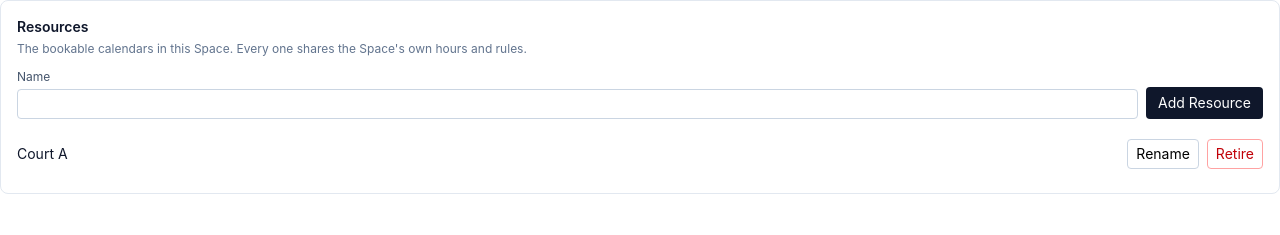
Test: ResourcesPanel › shows a forbidden rename as an error on the row
Expected: the list item with test id "resource-1" is shown, x1=17 y1=131 x2=1263 y2=177
Click the button with test id "resource-1-rename-start" at (1163, 154), box x1=1127 y1=139 x2=1199 y2=169
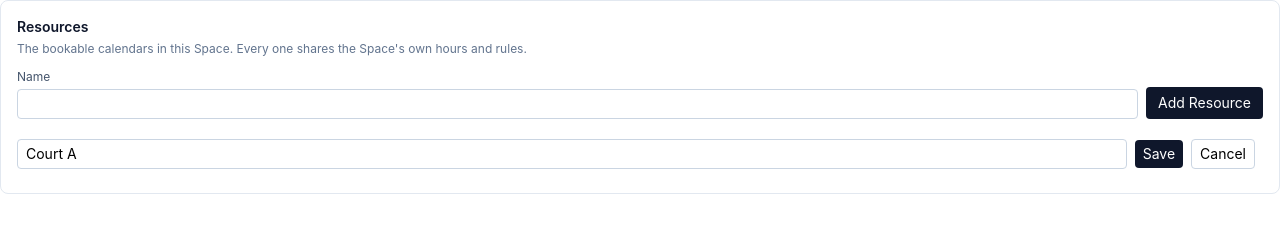
Replace the text in the field with test id "resource-1-rename-input" with "Court Z" at (572, 154), box x1=17 y1=139 x2=1127 y2=169
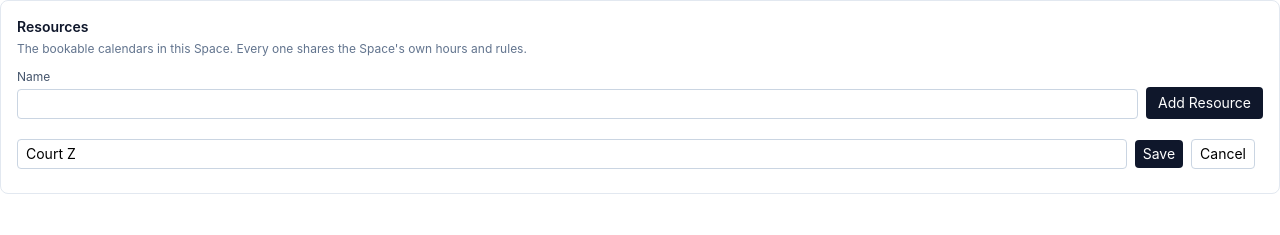
Click the button with test id "resource-1-rename-save" at (1159, 154), box x1=1135 y1=140 x2=1183 y2=168
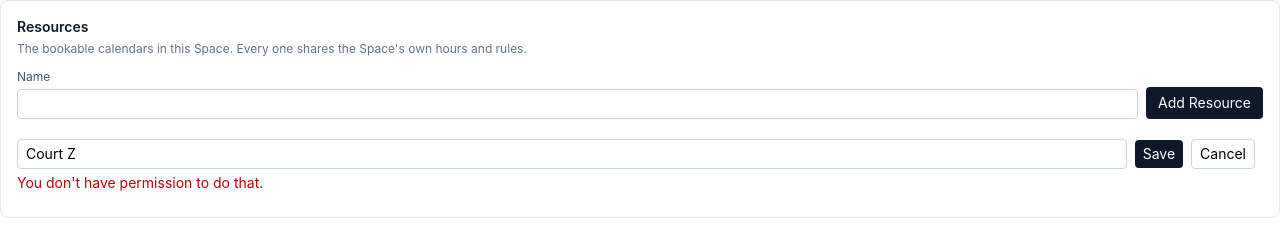
Now the message with test id "resource-1-error" reads "You don't have permission to do that.", box x1=17 y1=174 x2=263 y2=191
